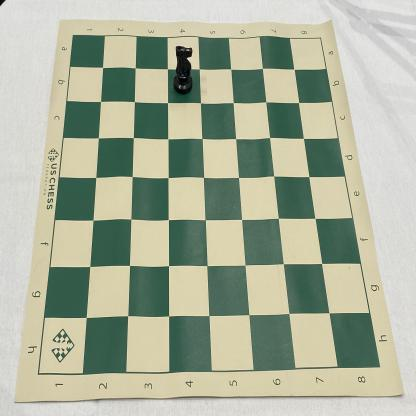black-knight: (172, 45, 194, 95)
